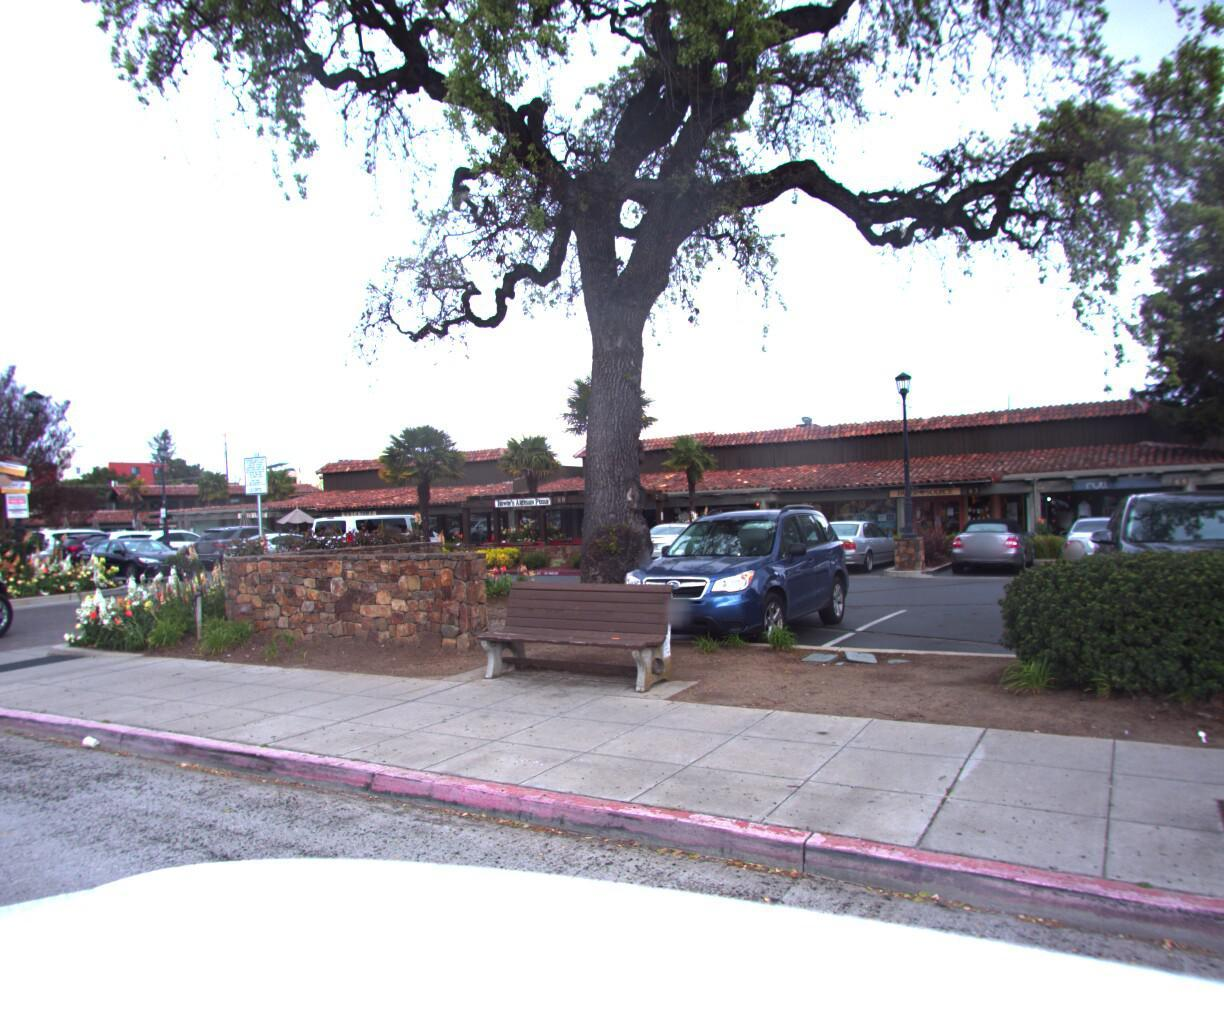car: (587, 500, 859, 670), (1077, 479, 1224, 697), (0, 520, 28, 692)
